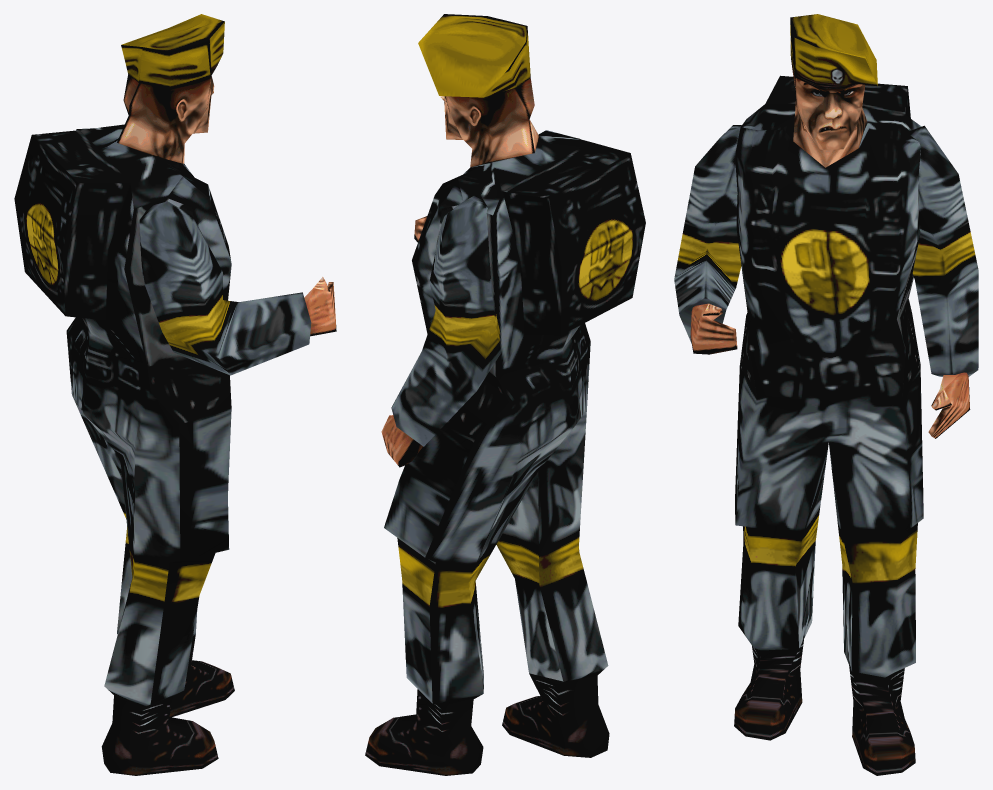
Rendered from soldier2_yellow.glb.
The picture shows the model from 3 angles, left to right: view 1: azimuth 30°, elevation 25°; view 2: azimuth 150°, elevation 25°; view 3: azimuth 270°, elevation 25°; orthographic projection. The views are drawn at different scales.
Parts seen in each view (by area): view 1: soldier2; view 2: soldier2; view 3: soldier2.
Part boxes in pixels (x1=…): soldier2: x1=14, y1=14, x2=336, y2=775; soldier2: x1=365, y1=14, x2=645, y2=775; soldier2: x1=674, y1=14, x2=978, y2=775.
Bounding box in the file's own units: 27.85 × 75.13 × 29.19.
Materials: 1 (1 with a texture image).
